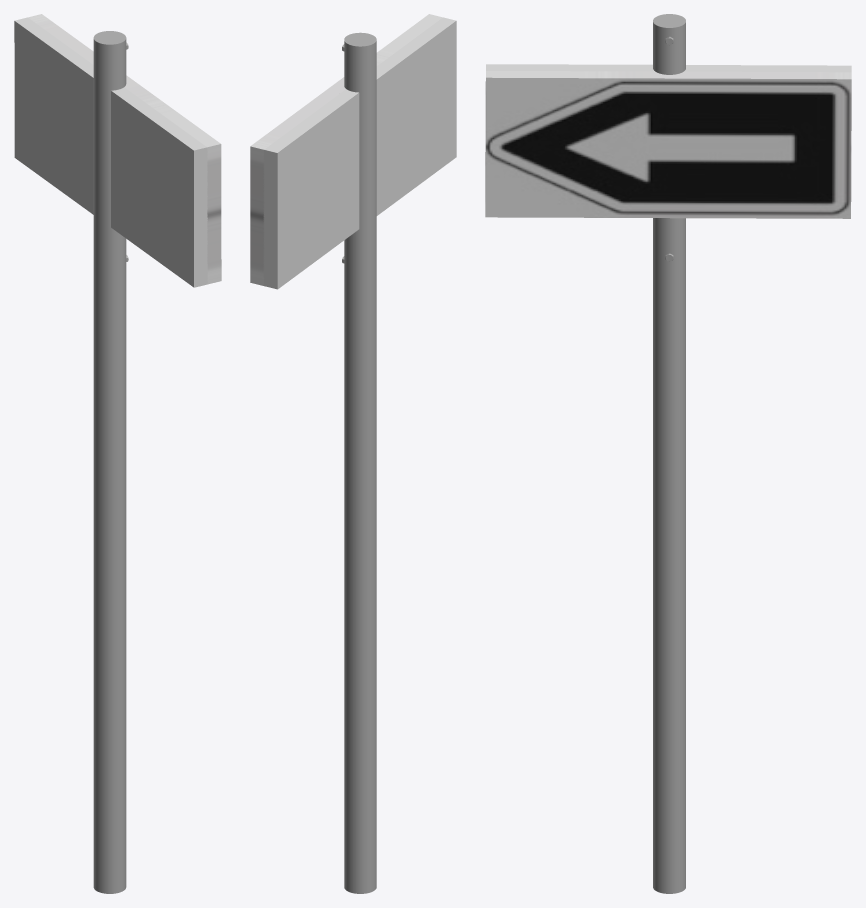
Rendered from TurnBlackErrowLeft(2).fbx.
The picture shows the model from 3 angles, left to right: view 1: azimuth 30°, elevation 25°; view 2: azimuth 150°, elevation 25°; view 3: azimuth 270°, elevation 25°; orthographic projection. The views are drawn at different scales.
Visible parts, largest first — view 1: Cylinder, Plane.002, Plane.001; view 2: Plane.002, Cylinder, Plane.001; view 3: Plane.001, Cylinder, Plane.002.
Part boxes in pixels (x1,y1,x2,y2): Cylinder: (93,31,126,893); Plane.002: (14,17,207,287); Plane.001: (28,14,221,284); Plane.002: (263,17,456,289); Cylinder: (344,32,376,893); Plane.001: (250,14,442,285); Plane.001: (485,71,851,218); Cylinder: (653,14,685,893); Plane.002: (485,64,851,158).
Bounding box in the file's own units: 25.2 × 580 × 222.
3 materials, 1 textured.
